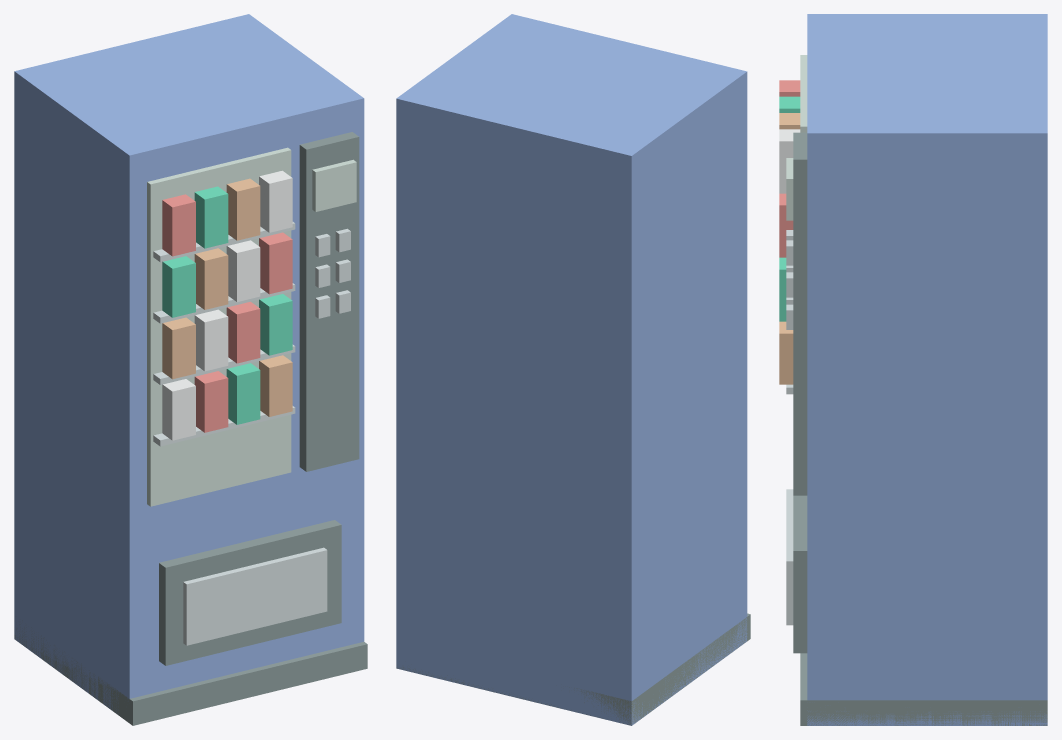
File: vendingMachine.glb
3 renders of one model, left to right at view 1: azimuth 30°, elevation 25°; view 2: azimuth 150°, elevation 25°; view 3: azimuth 270°, elevation 25°, orthographic. The views are drawn at different scales.
Parts seen in each view (by area): view 1: vendingMachine; view 2: vendingMachine; view 3: vendingMachine.
Part boxes in pixels (x1,y1,x2,y2): vendingMachine: (14,14,367,725); vendingMachine: (396,14,750,725); vendingMachine: (779,14,1047,725).
Size of the model in its own units: 0.4 by 0.925 by 0.38.
